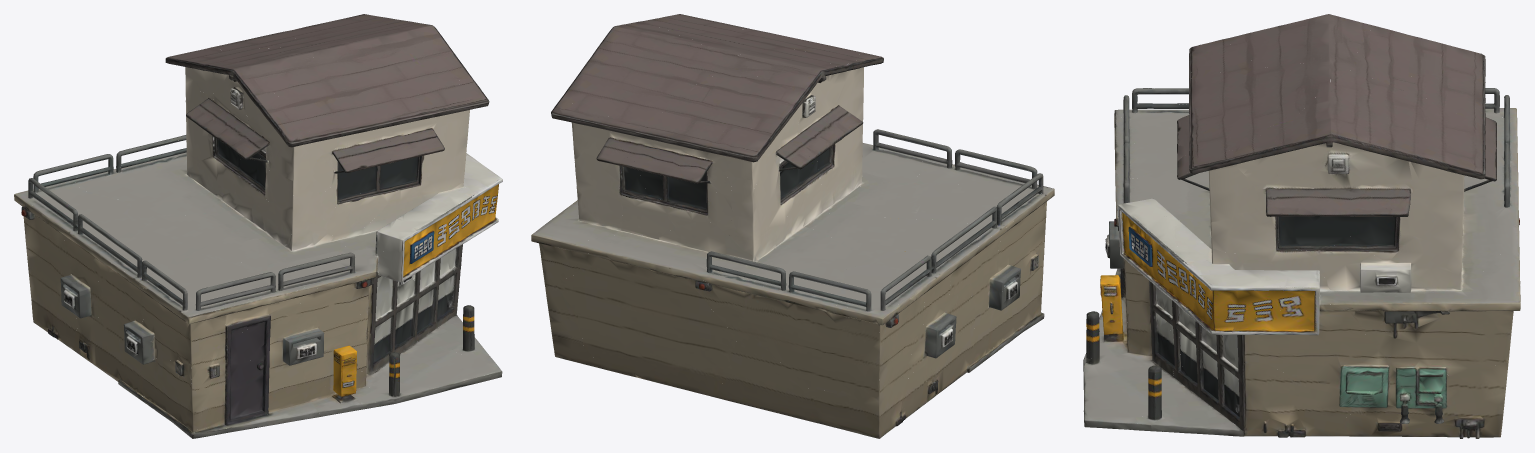
Rendered from building5.glb.
3 views of the same model, side by side, from view 1: azimuth 30°, elevation 25°; view 2: azimuth 150°, elevation 25°; view 3: azimuth 270°, elevation 25° (orthographic). The views are drawn at different scales.
Parts seen in each view (by area): view 1: tripo_node_78437666-8772-4c20-95e0-9f422779b059; view 2: tripo_node_78437666-8772-4c20-95e0-9f422779b059; view 3: tripo_node_78437666-8772-4c20-95e0-9f422779b059.
Boxes of the visible parts, left/top/right/bottom form: tripo_node_78437666-8772-4c20-95e0-9f422779b059: left=14, top=14, right=502, bottom=438; tripo_node_78437666-8772-4c20-95e0-9f422779b059: left=531, top=14, right=1054, bottom=438; tripo_node_78437666-8772-4c20-95e0-9f422779b059: left=1083, top=14, right=1520, bottom=438.
Size of the model in its own units: 0.9999 by 0.7172 by 0.8817.
Materials: 1 (1 with a texture image).
